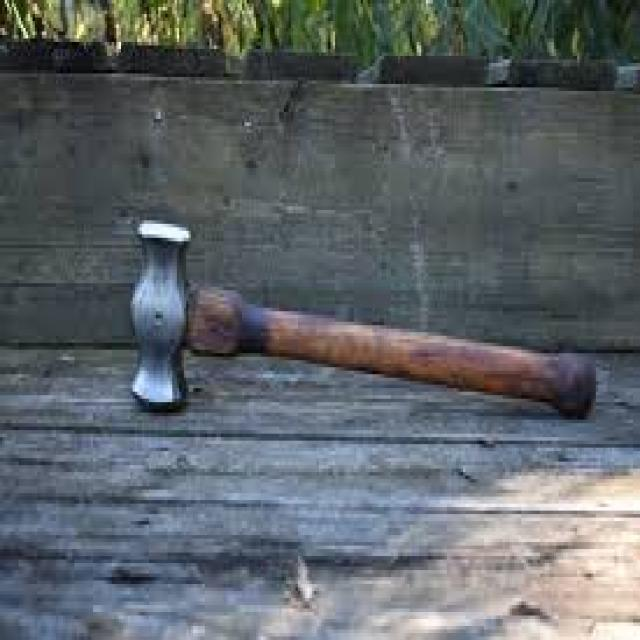hammer: (124, 222, 604, 425)
